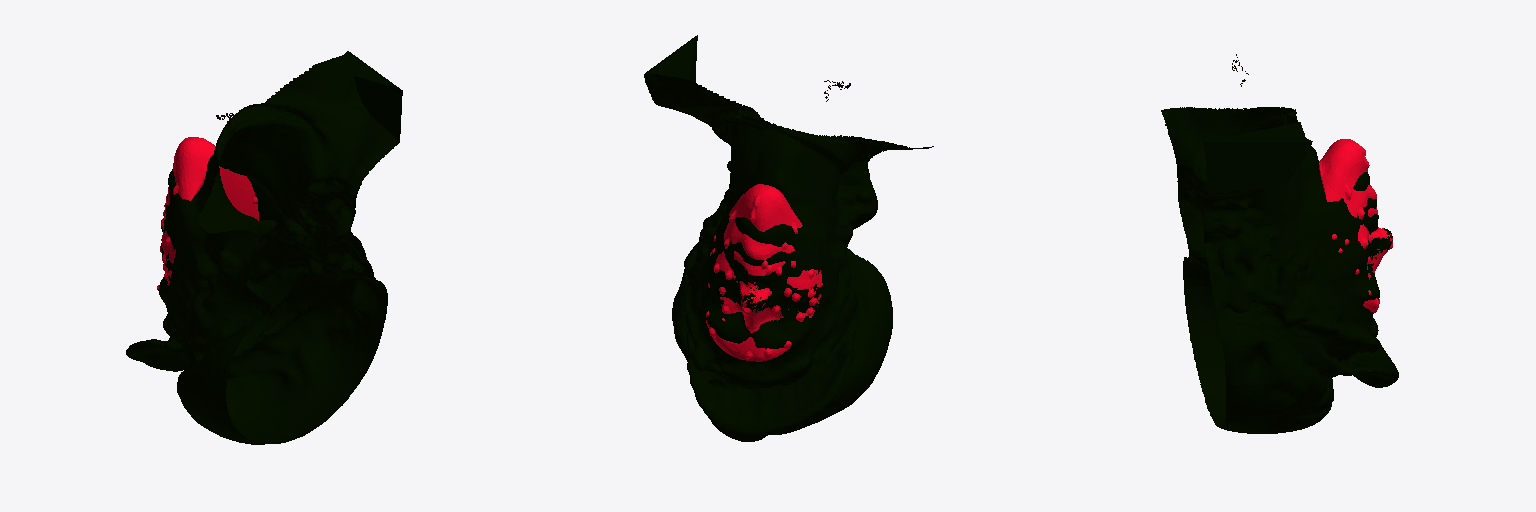
The model's file is ALIFLORAR.obj.
The picture shows the model from 3 angles: view 1: azimuth 30°, elevation 25°; view 2: azimuth 150°, elevation 25°; view 3: azimuth 270°, elevation 25°; orthographic projection.
Visible parts, largest first — view 1: ali, aliflor001; view 2: ali, aliflor001; view 3: ali, aliflor001.
Part boxes in pixels (x1,y1,x2,y2): ali: (126,51,402,444); aliflor001: (157,137,258,289); ali: (644,35,933,441); aliflor001: (706,184,822,361); ali: (1161,107,1398,433); aliflor001: (1319,139,1392,312).
Size of the model in its own units: 1082 by 1642 by 1031.